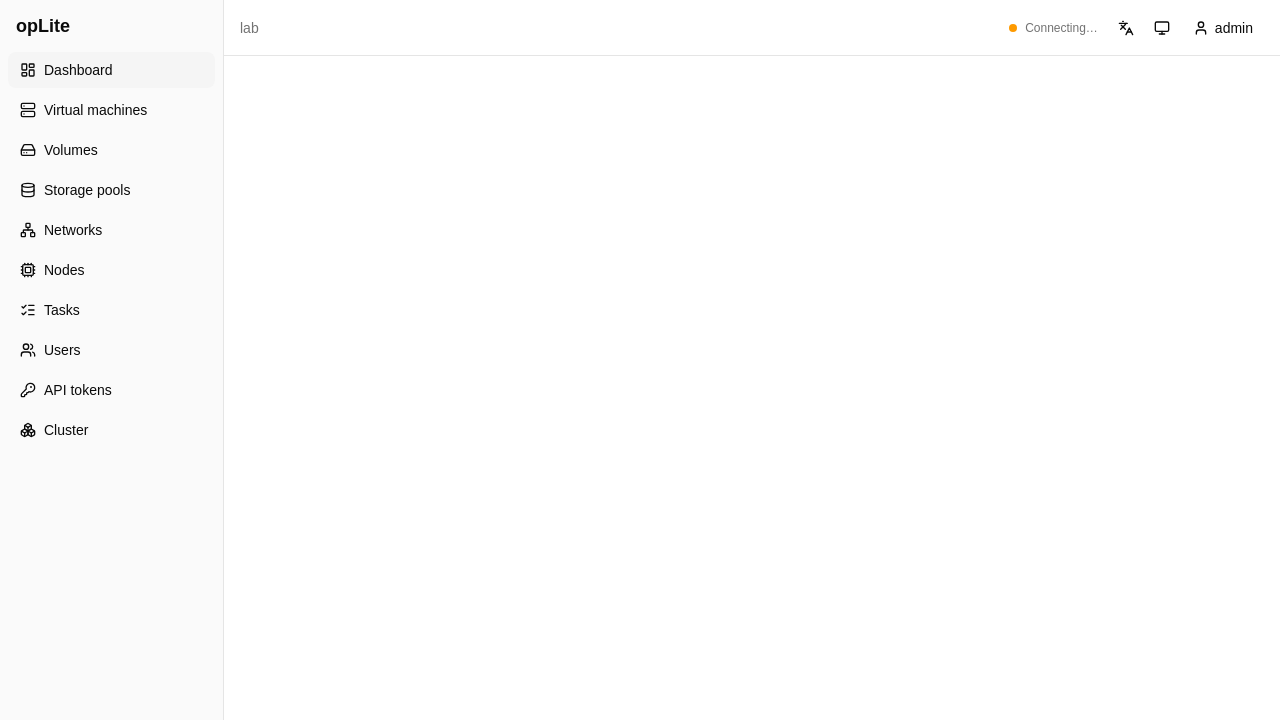
Test case: says when the current password is wrong
Step 1. Click the button with aria-label "Account (admin)" → x=1223, y=28, box [1182,12,1264,44]
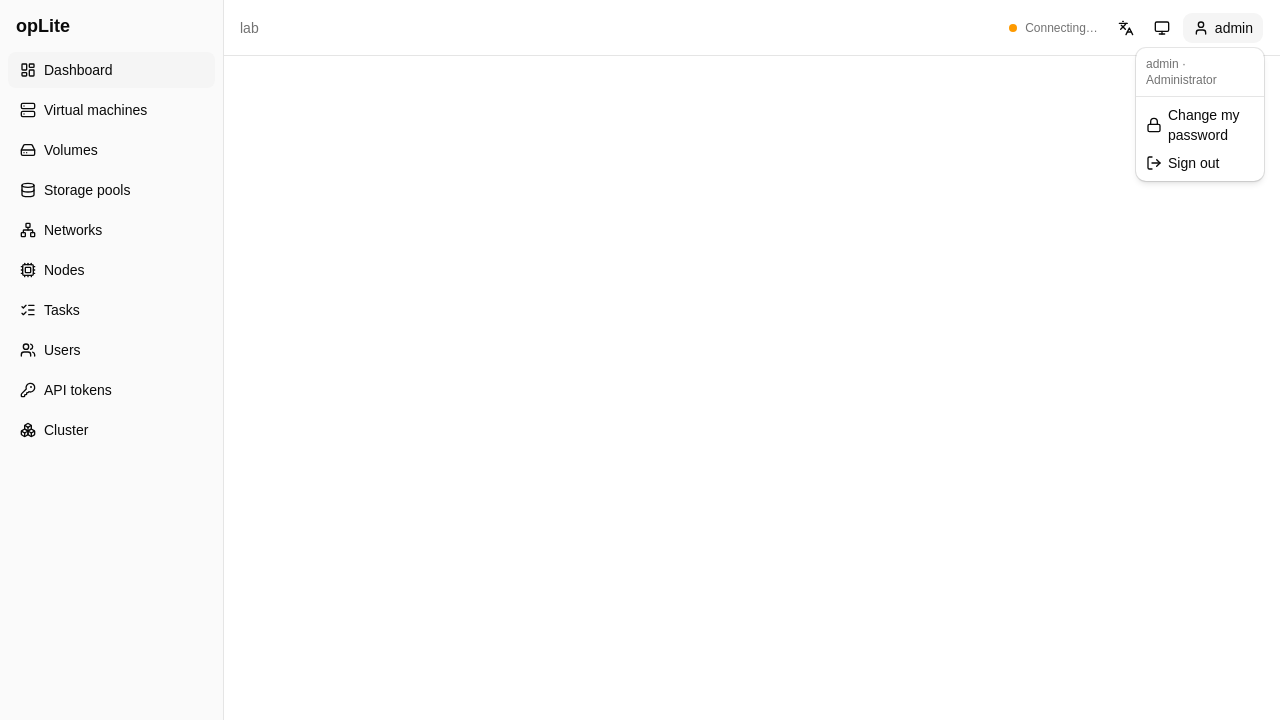
Step 2. Click the menu item "Change my password" → x=1193, y=125, box [1146,107,1240,143]
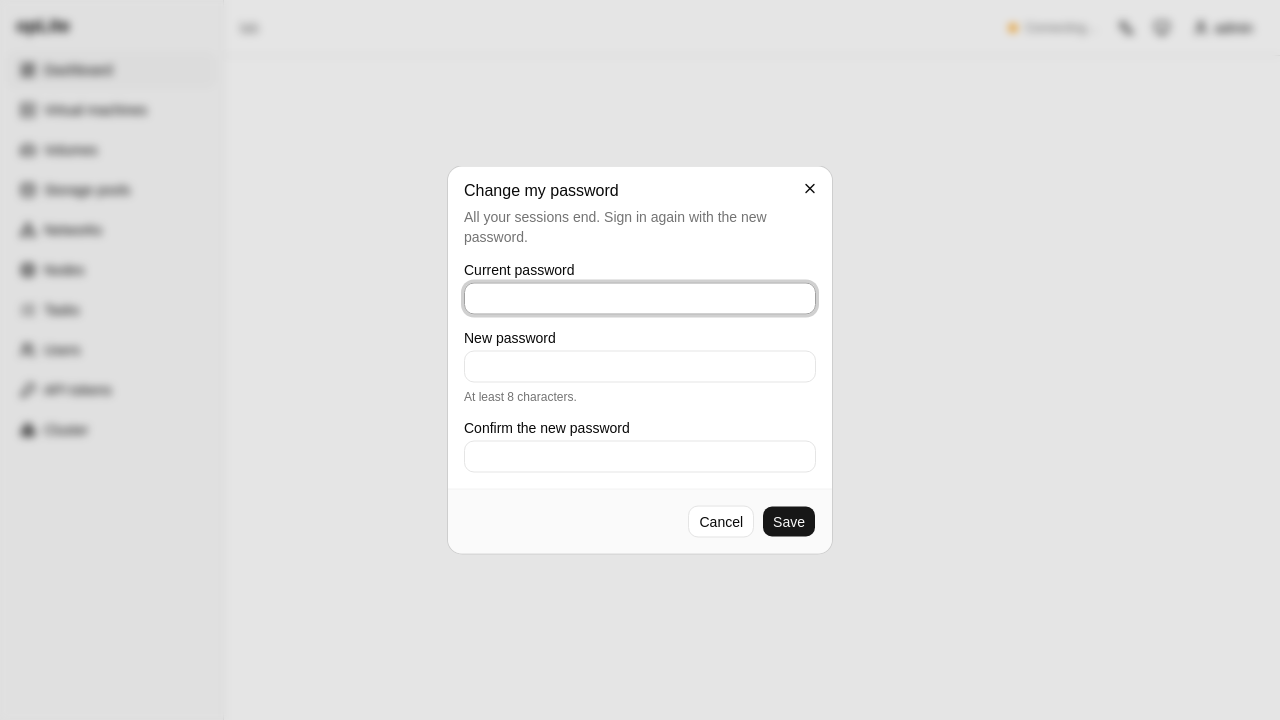
Step 3. Click the button "Save" → x=789, y=522, box [762,506,816,538]
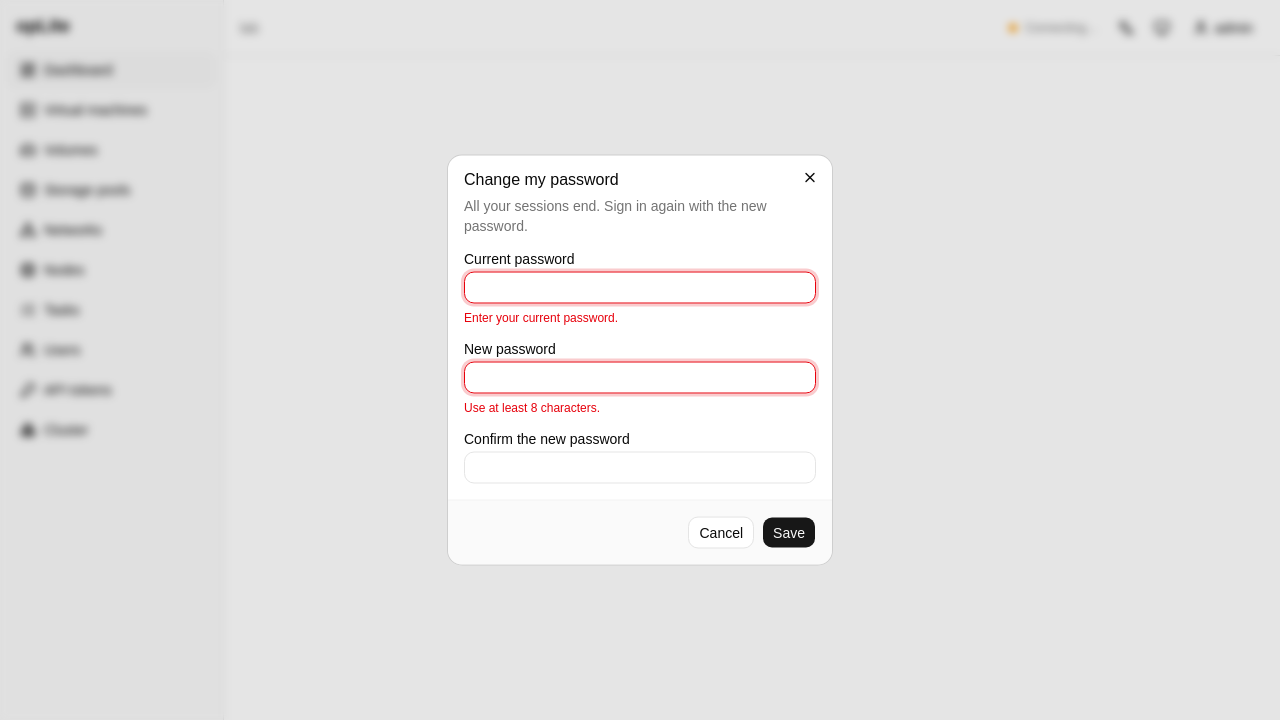
expect the text "Enter your current password." is shown: met, box [464,310,618,324]
Step 4. Type "old-secret" into the password field labelled "Current password" → x=640, y=288, box [464,272,816,304]
Step 5. Type "new-secret" into the password field labelled "New password" → x=640, y=378, box [464,362,816,394]
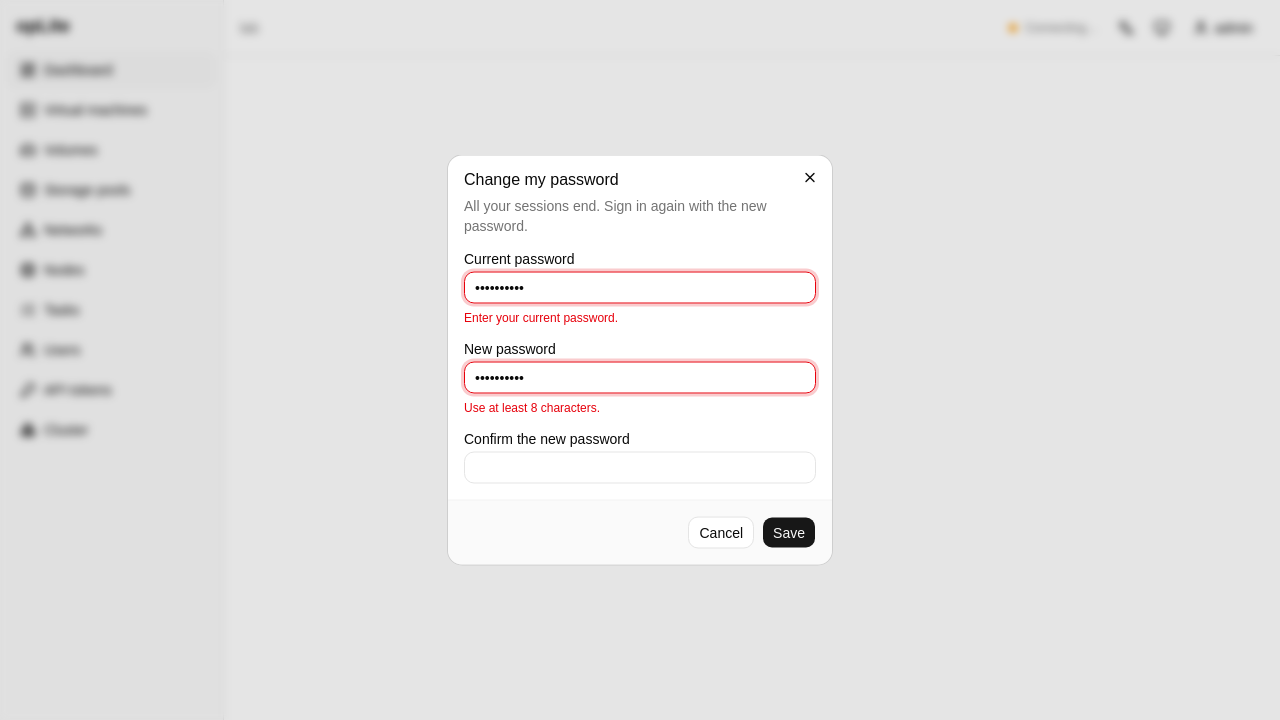
Step 6. Type "new-secret" into the password field labelled "Confirm the new password" → x=640, y=468, box [464,452,816,484]
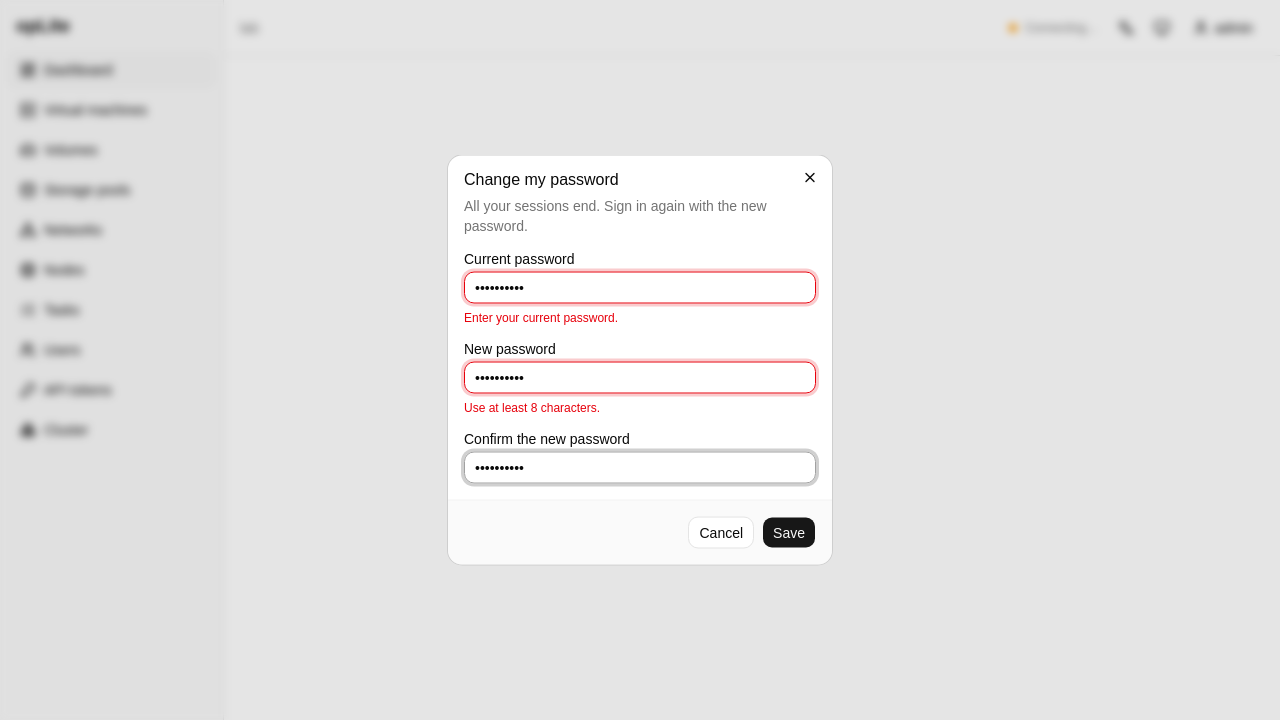
Step 7. Click the button "Save" → x=789, y=532, box [762,516,816,548]
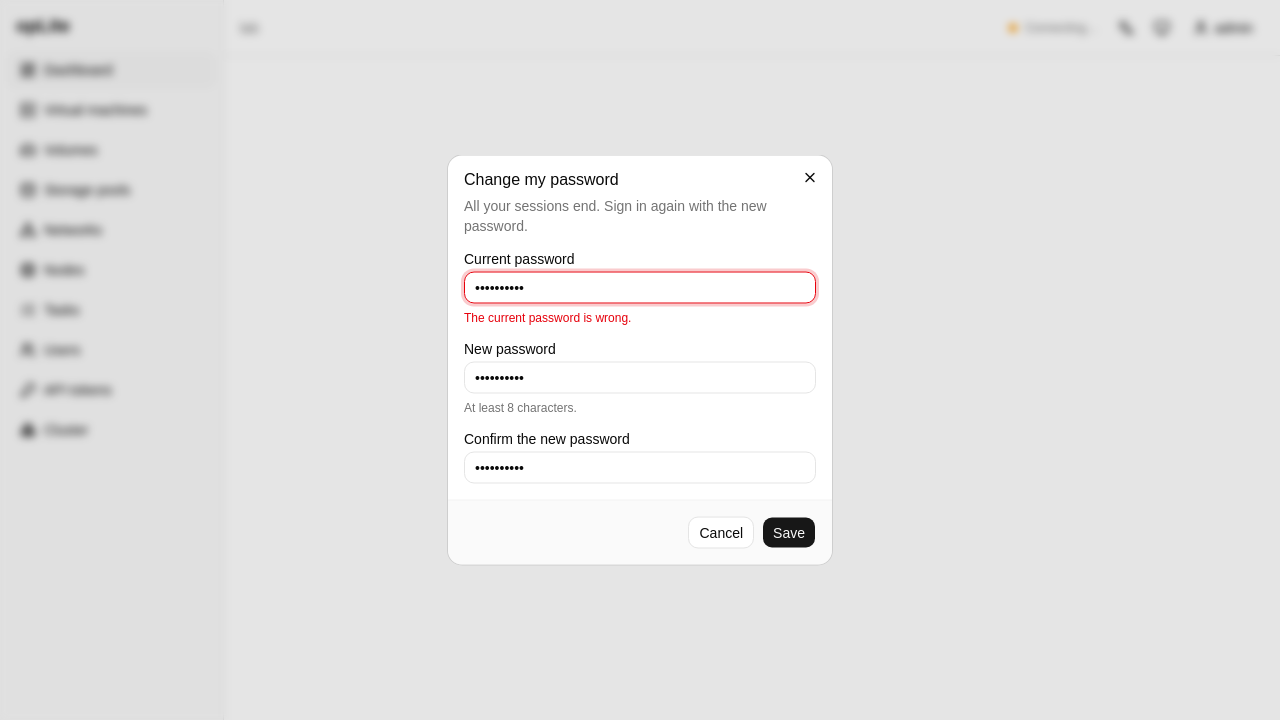
expect the text "The current password is wrong." is shown: met, box [464,310,631,324]
